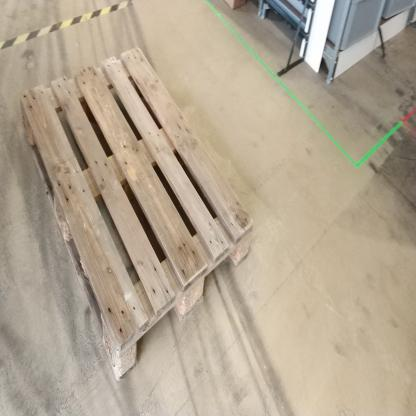BoxFace: (17, 36, 256, 393)
